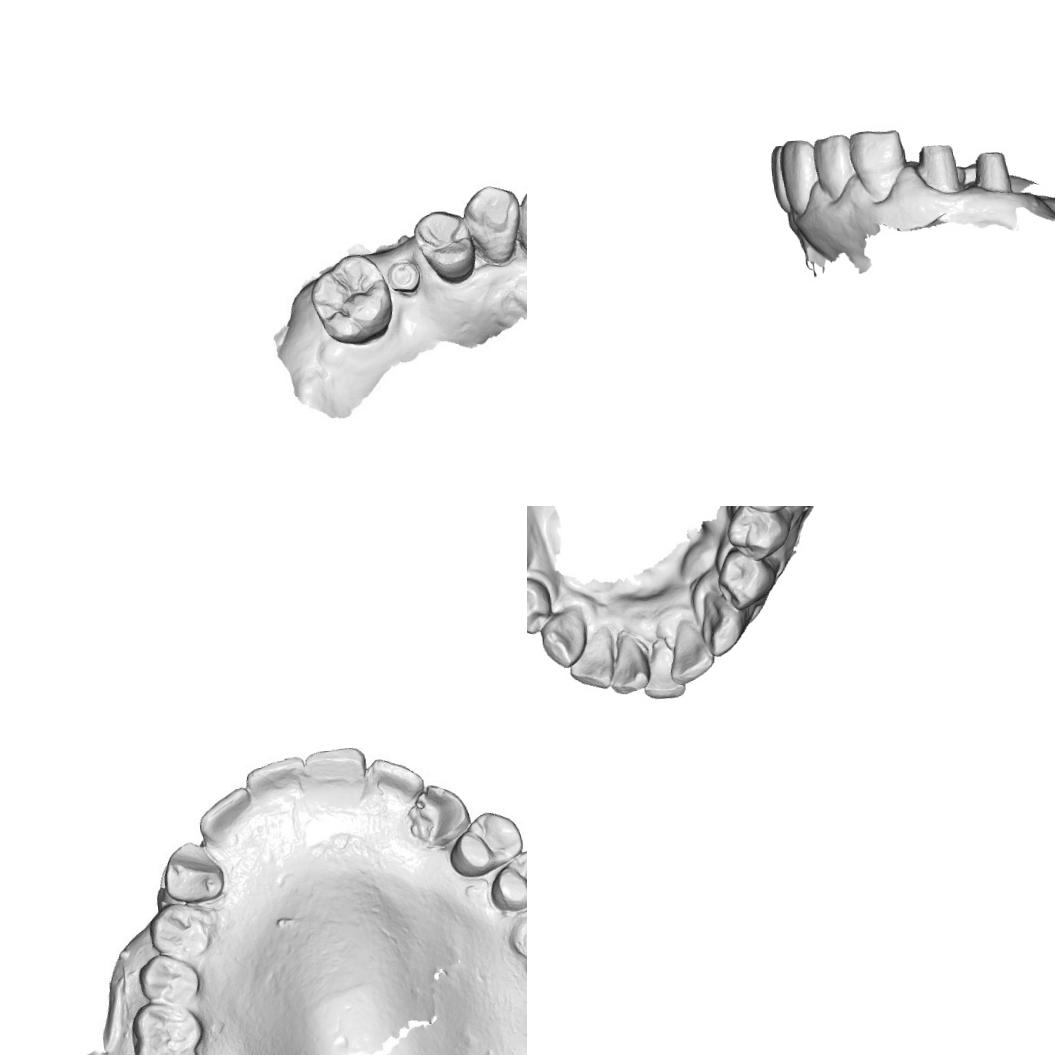canine: (464, 184, 520, 268), (160, 836, 225, 906), (412, 776, 478, 842), (695, 585, 748, 659), (537, 602, 590, 671)
implant: (384, 260, 423, 296)
incisor: (194, 784, 262, 842), (299, 745, 373, 798), (242, 754, 312, 810), (664, 617, 716, 686), (638, 632, 688, 701), (564, 627, 616, 693), (366, 753, 426, 810), (604, 628, 651, 696)
molar: (310, 256, 394, 344), (129, 995, 210, 1055), (512, 897, 527, 981)
premolar: (446, 808, 524, 878), (410, 209, 476, 282), (712, 544, 776, 610), (720, 506, 792, 564), (146, 900, 213, 959), (138, 951, 204, 1010), (486, 846, 527, 914), (527, 573, 556, 638)
